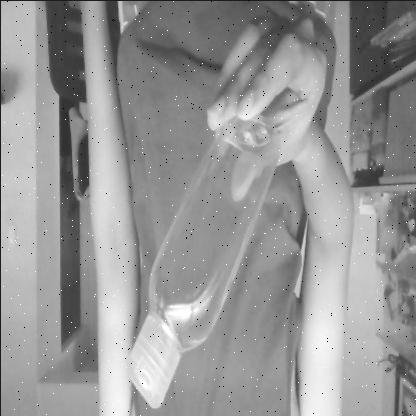Plastic Bottle: (128, 98, 282, 413)
